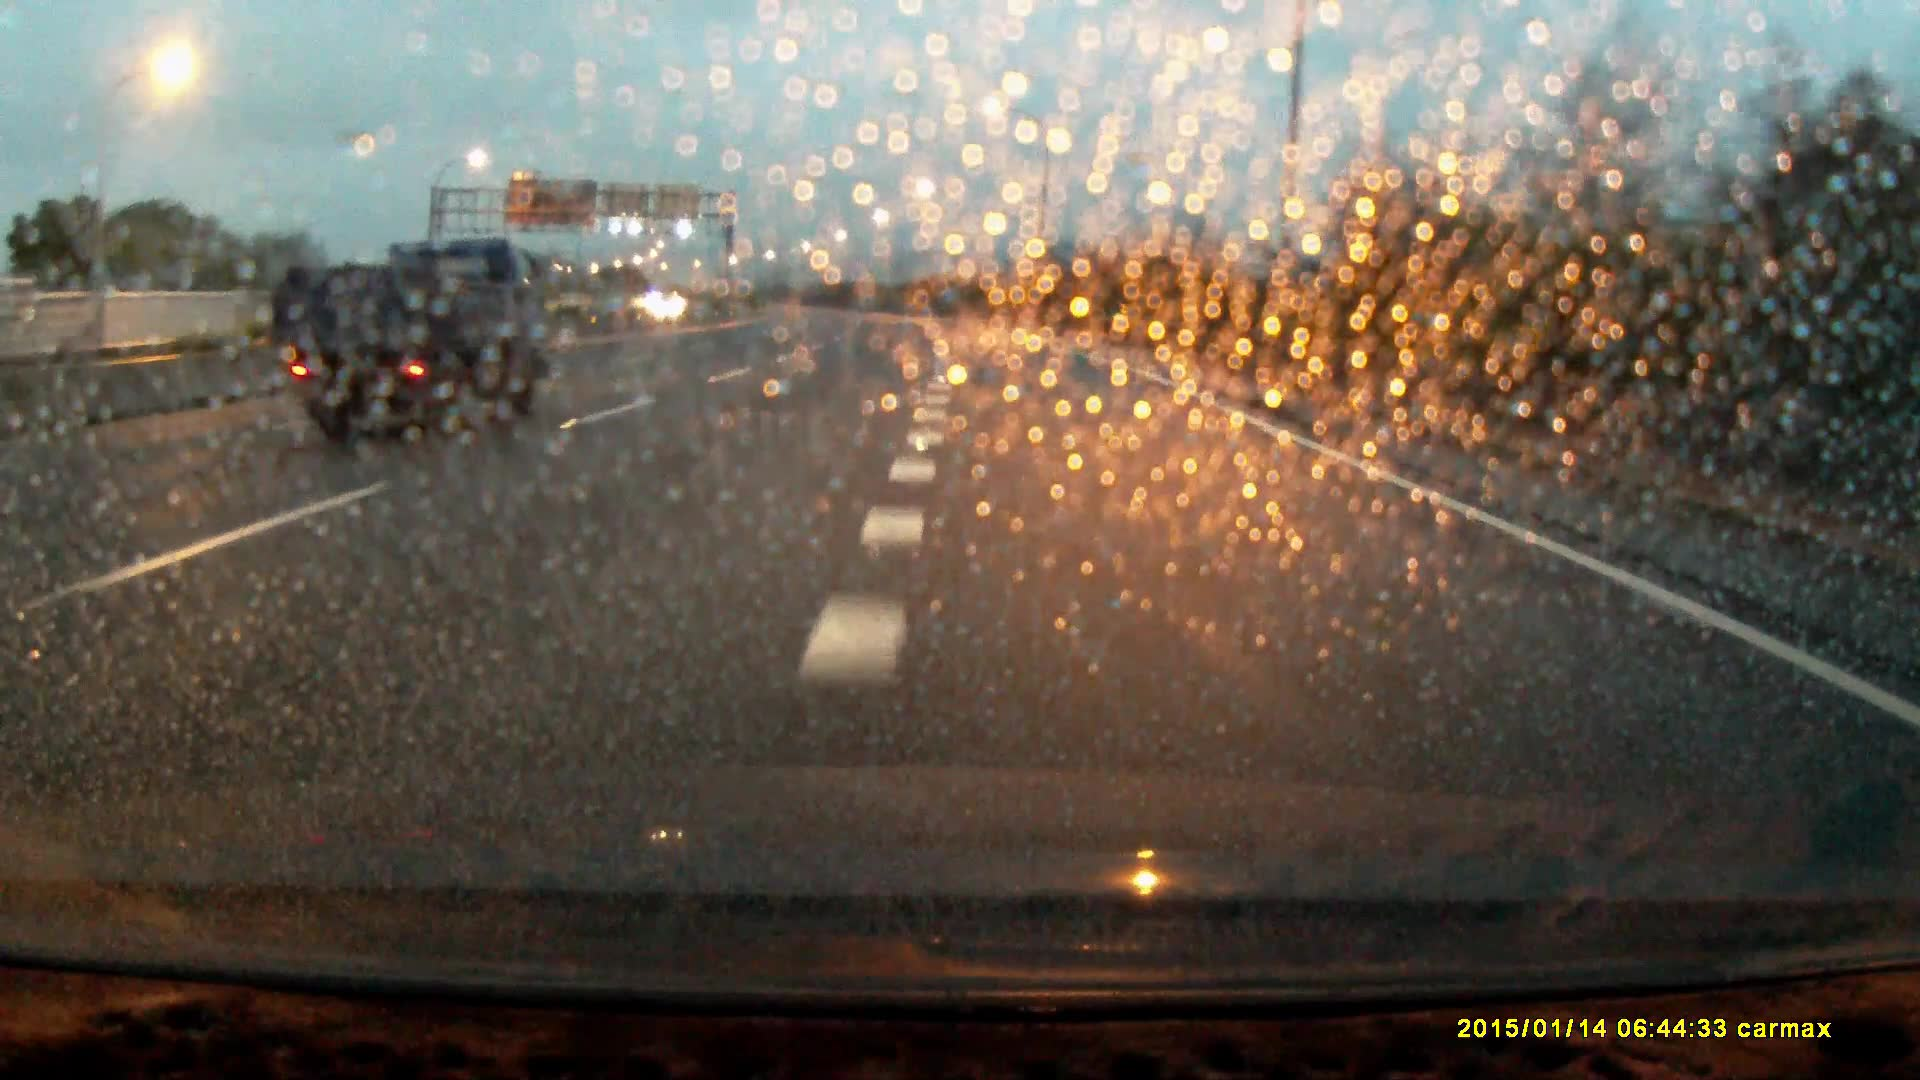vehicle: (276, 236, 534, 444)
